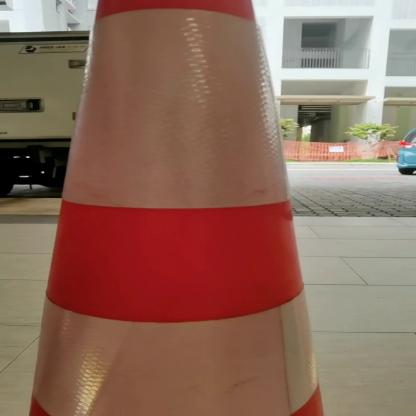cone: (14, 5, 353, 415)
